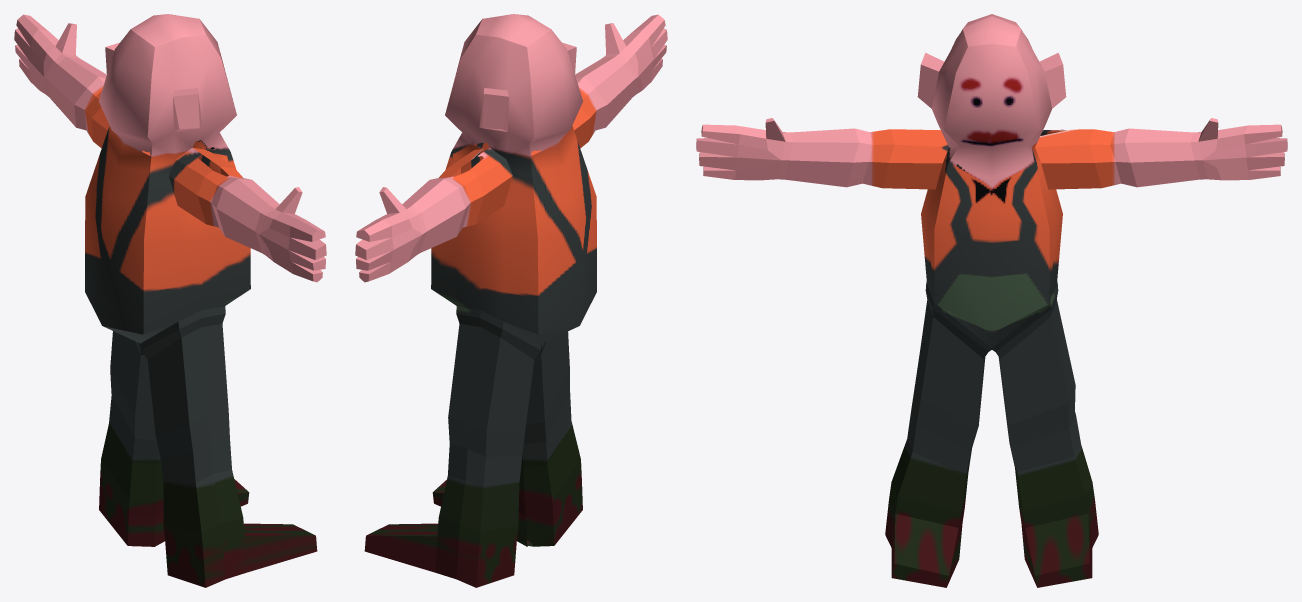
Rendered from characterLandmand02.FBX.
3 renders of one model, left to right at view 1: azimuth 30°, elevation 25°; view 2: azimuth 150°, elevation 25°; view 3: azimuth 270°, elevation 25°, orthographic.
Visible parts, largest first — view 1: Box001; view 2: Box001; view 3: Box001.
Boxes of the visible parts, <box> form: Box001: <box>14,14,326,587</box>; Box001: <box>355,14,667,587</box>; Box001: <box>696,14,1287,587</box>.
Bounding box in the file's own units: 63.57 × 196 × 196.
Materials: 1 (1 with a texture image).
